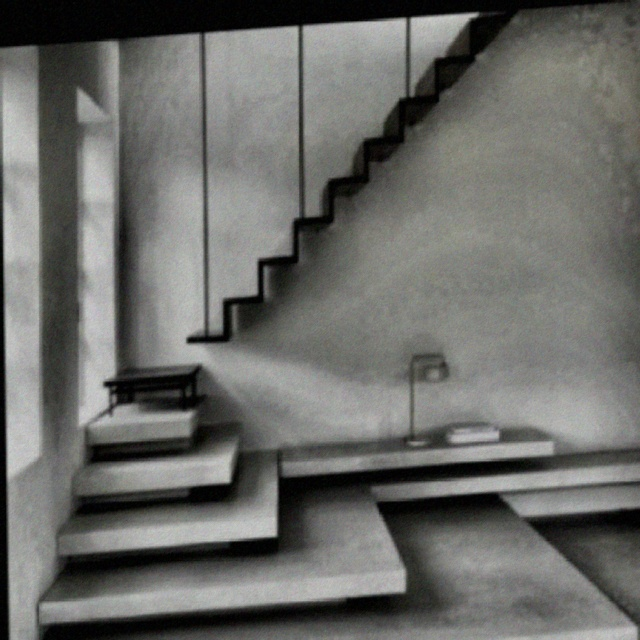stair: (30, 352, 321, 612)
